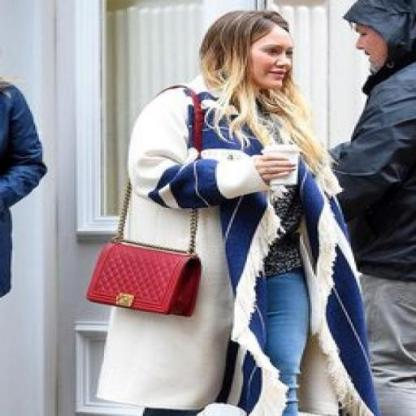bag: (77, 226, 208, 324)
person: (93, 6, 346, 416)
